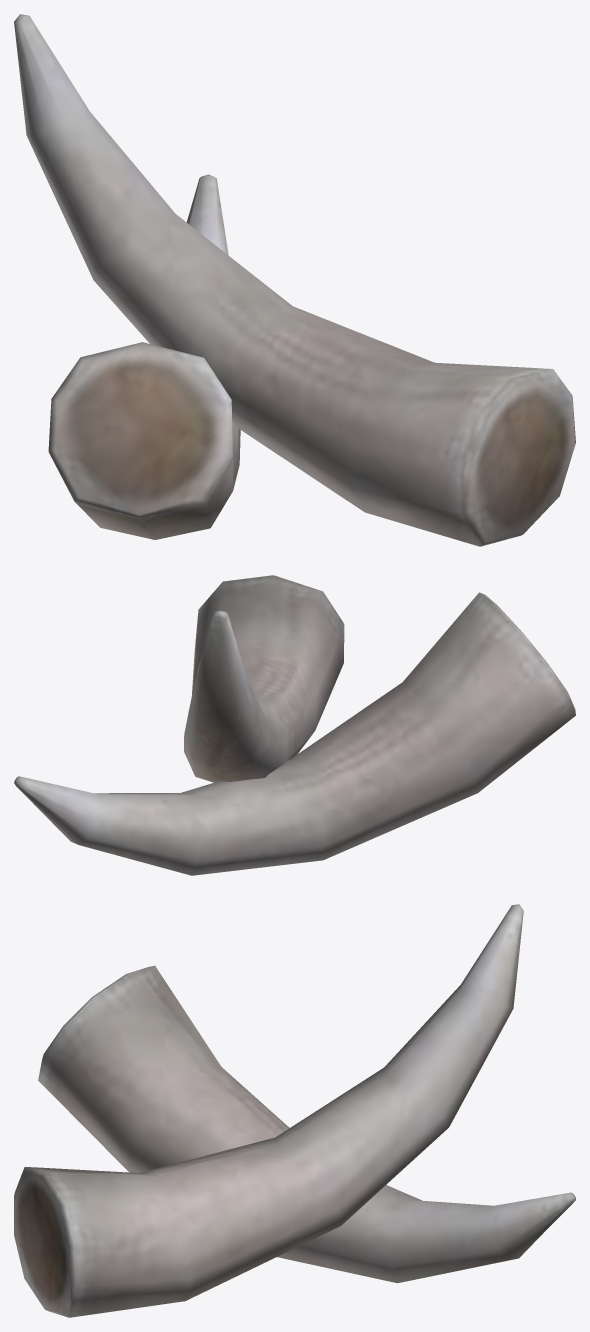
File: Ivory.glb
3 renders of one model, top to bottom at view 1: azimuth 30°, elevation 25°; view 2: azimuth 150°, elevation 25°; view 3: azimuth 270°, elevation 25°, orthographic. The views are drawn at different scales.
Visible parts, largest first — view 1: ivory_low.001, ivory_low.002; view 2: ivory_low.002, ivory_low.001; view 3: ivory_low.001, ivory_low.002.
Part boxes in pixels (left/top/right/bottom): ivory_low.001: left=14, top=14, right=575, bottom=546; ivory_low.002: left=48, top=174, right=240, bottom=539; ivory_low.002: left=14, top=592, right=575, bottom=875; ivory_low.001: left=184, top=575, right=344, bottom=782; ivory_low.001: left=14, top=904, right=523, bottom=1317; ivory_low.002: left=38, top=965, right=575, bottom=1283.
Size of the model in its own units: 1.2 by 0.9269 by 1.4.
1 material, 1 textured.
